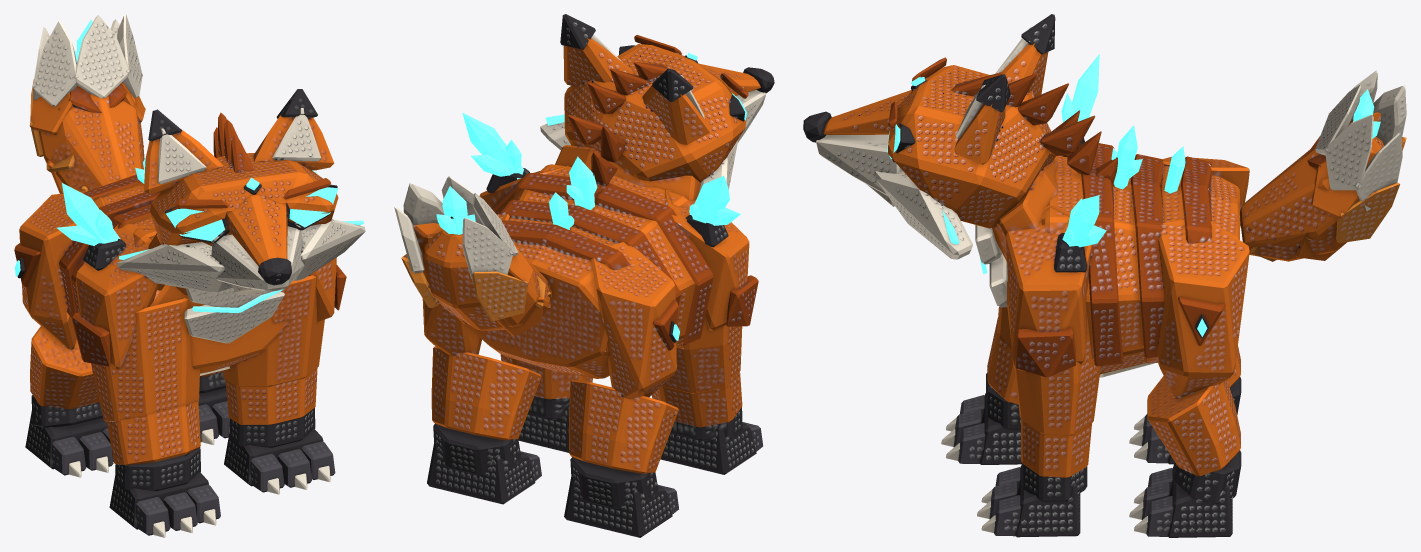
File: crystalfox.fbx
3 renders of one model, left to right at view 1: azimuth 30°, elevation 25°; view 2: azimuth 150°, elevation 25°; view 3: azimuth 270°, elevation 25°, orthographic. The views are drawn at different scales.
Visible parts, largest first — view 1: CrystalFox_Body, CrystalFox_GLOW; view 2: CrystalFox_Body, CrystalFox_GLOW; view 3: CrystalFox_Body, CrystalFox_GLOW.
Boxes of the visible parts, x1,y1,x2,y2 form: CrystalFox_Body: [14, 14, 365, 537]; CrystalFox_GLOW: [15, 20, 364, 312]; CrystalFox_Body: [394, 14, 774, 537]; CrystalFox_GLOW: [436, 52, 746, 340]; CrystalFox_Body: [803, 14, 1406, 537]; CrystalFox_GLOW: [887, 54, 1380, 336].
Size of the model in its own units: 2.12 by 3 by 3.69.
2 materials, 1 textured.
